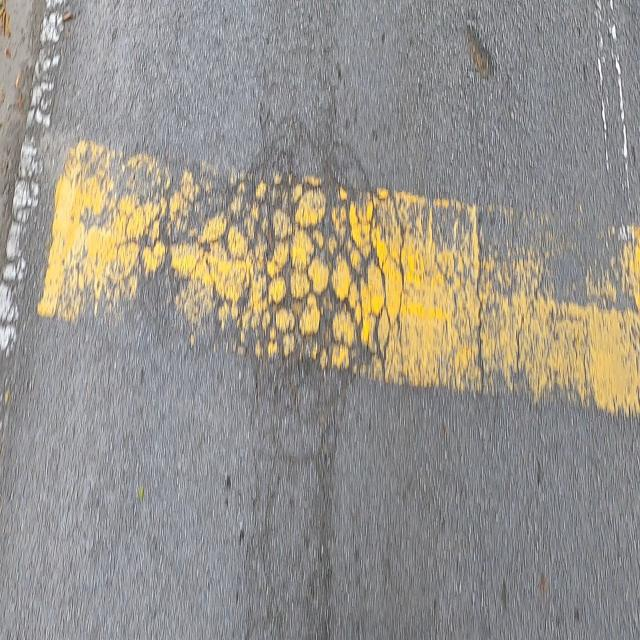Retak-Buaya: (119, 130, 409, 640)
Retak-Memanjang: (473, 212, 490, 397)
